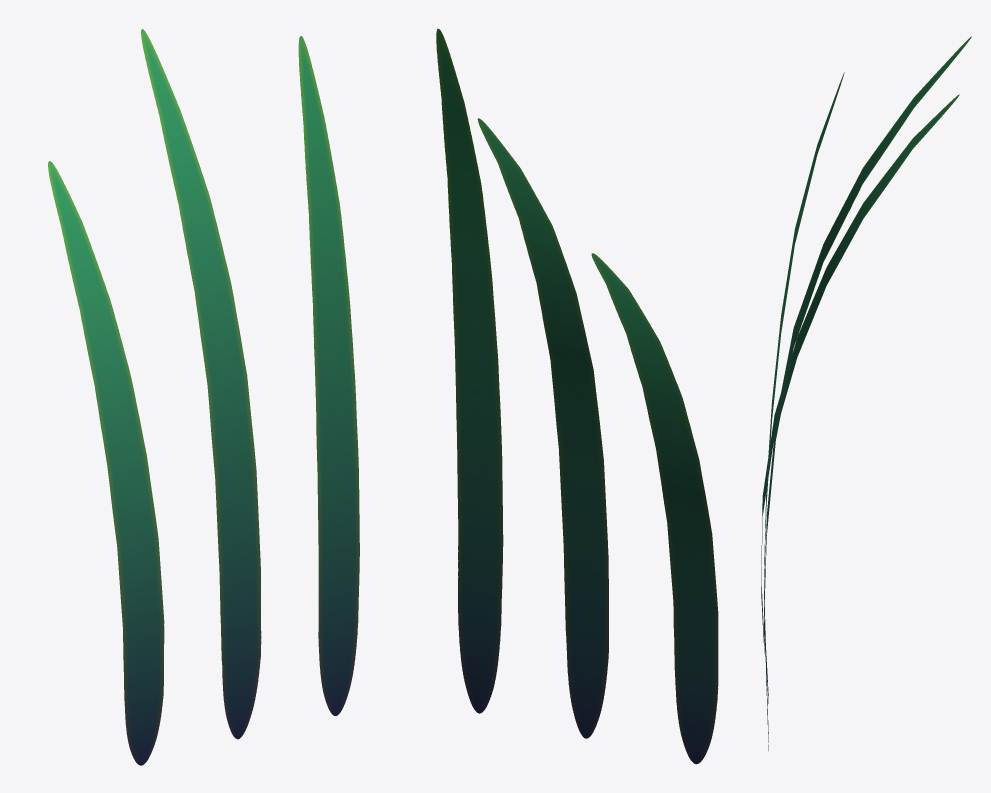
The model's file is Grass2.fbx.
3 renders of one model, left to right at view 1: azimuth 30°, elevation 25°; view 2: azimuth 150°, elevation 25°; view 3: azimuth 270°, elevation 25°, orthographic. The views are drawn at different scales.
Parts seen in each view (by area): view 1: Grass:Grass_low5.001; view 2: Grass:Grass_low5.001; view 3: Grass:Grass_low5.001.
Boxes of the visible parts, bbox=[...] form: Grass:Grass_low5.001: bbox=[48, 29, 359, 765]; Grass:Grass_low5.001: bbox=[436, 28, 718, 764]; Grass:Grass_low5.001: bbox=[761, 36, 971, 750].
Bounding box in the file's own units: 0.0877 × 0.0595 × 0.2123.
Materials: 1 (1 with a texture image).
